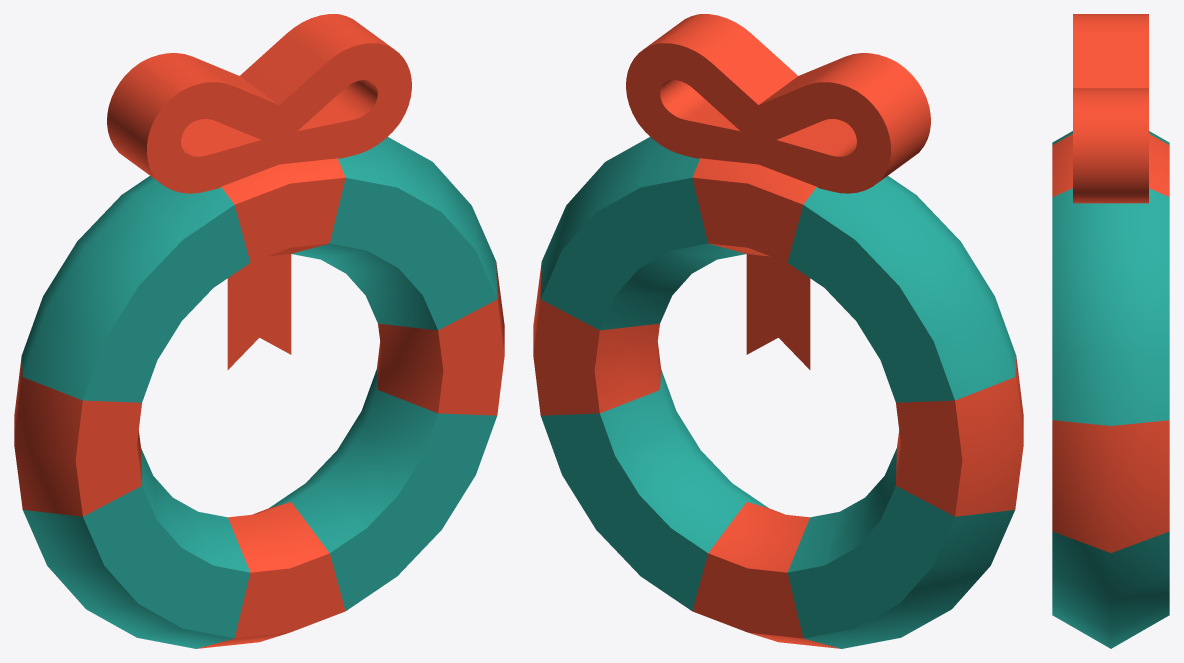
File: wreath.fbx
The picture shows the model from 3 angles, left to right: view 1: azimuth 30°, elevation 25°; view 2: azimuth 150°, elevation 25°; view 3: azimuth 270°, elevation 25°; orthographic projection. The views are drawn at different scales.
Parts seen in each view (by area): view 1: wreath, bow; view 2: wreath, bow; view 3: wreath, bow.
Part boxes in pixels (left/top/right/bottom): wreath: left=14, top=137, right=504, bottom=648; bow: left=107, top=14, right=411, bottom=193; wreath: left=533, top=137, right=1023, bottom=648; bow: left=626, top=14, right=930, bottom=193; wreath: left=1052, top=131, right=1169, bottom=648; bow: left=1073, top=14, right=1148, bottom=203.
Size of the model in its own units: 5.54 by 6.4 by 1.2.
